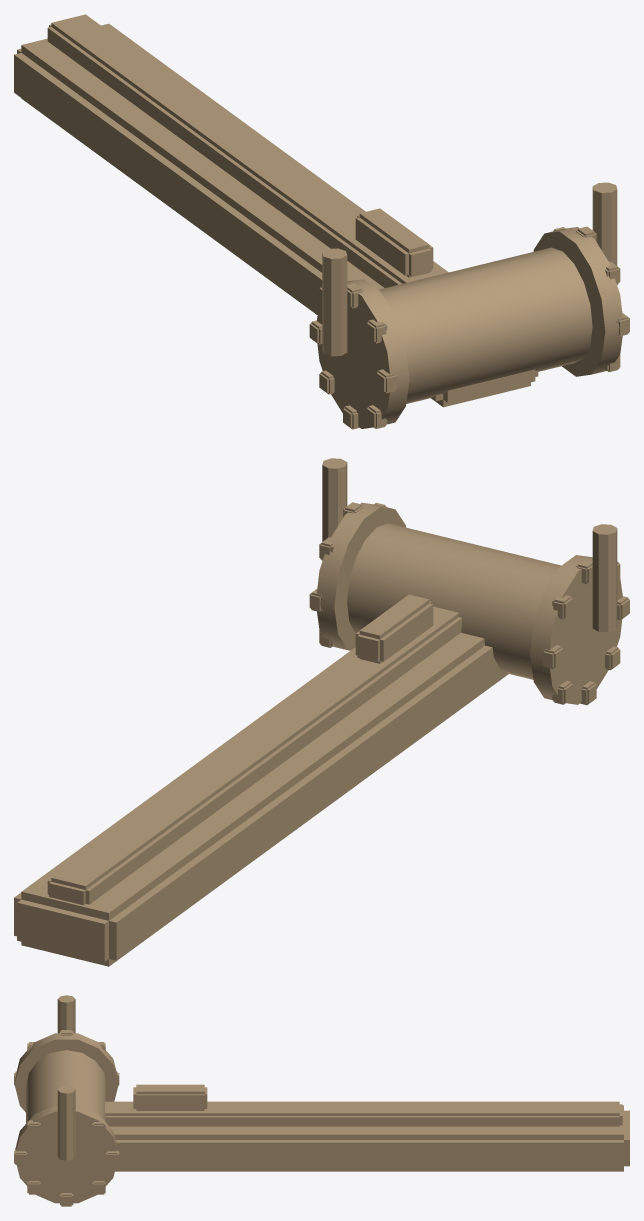
The model's file is ballista_stock.glb.
3 views of the same model, one above another, from view 1: azimuth 30°, elevation 25°; view 2: azimuth 150°, elevation 25°; view 3: azimuth 270°, elevation 25° (orthographic). The views are drawn at different scales.
Visible parts, largest first — view 1: ballista_stock; view 2: ballista_stock; view 3: ballista_stock.
Part boxes in pixels (x1,y1,x2,y2): ballista_stock: (14, 14, 629, 429); ballista_stock: (14, 458, 629, 966); ballista_stock: (14, 995, 629, 1206).
Size of the model in its own units: 0.314 by 0.181 by 0.831.
